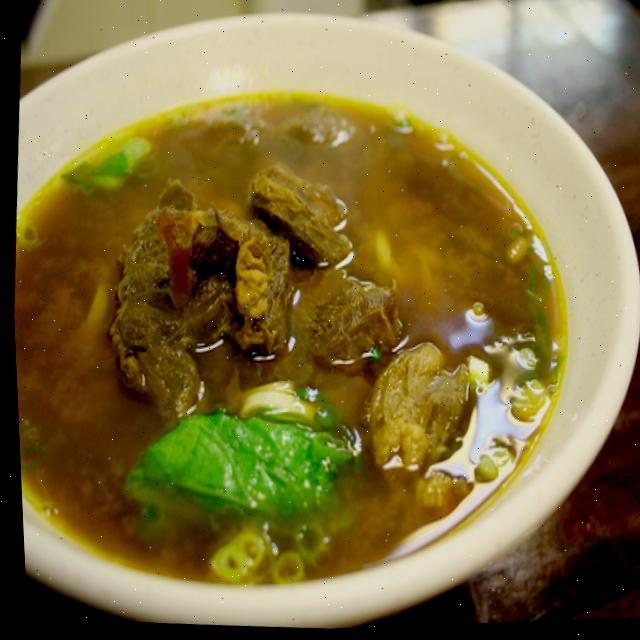面条主食: (2, 47, 595, 610)
